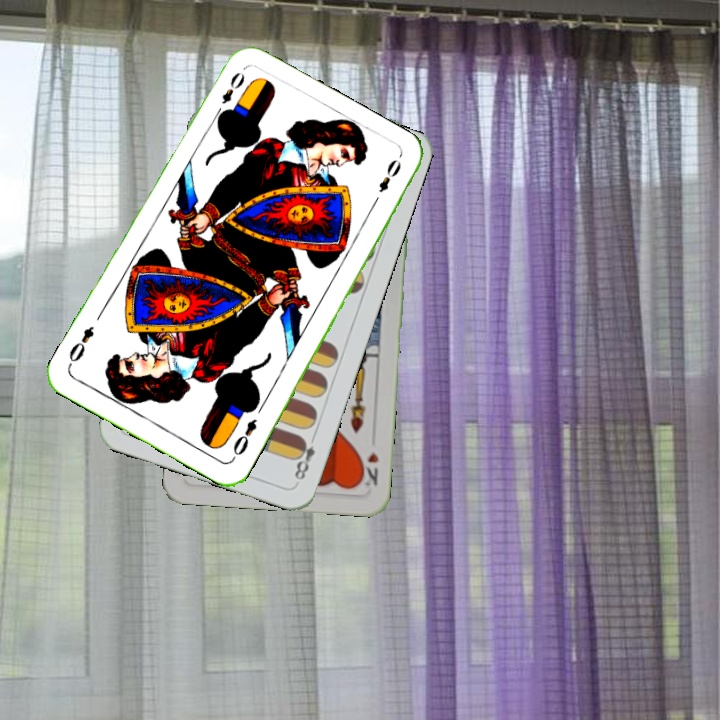E8: (290, 429, 319, 483)
EO: (210, 68, 248, 121), (228, 415, 260, 463)
HK: (356, 448, 381, 489)
